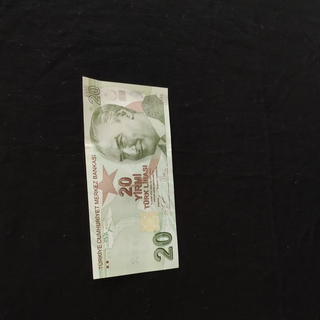20TLFront: (79, 76, 179, 279)
